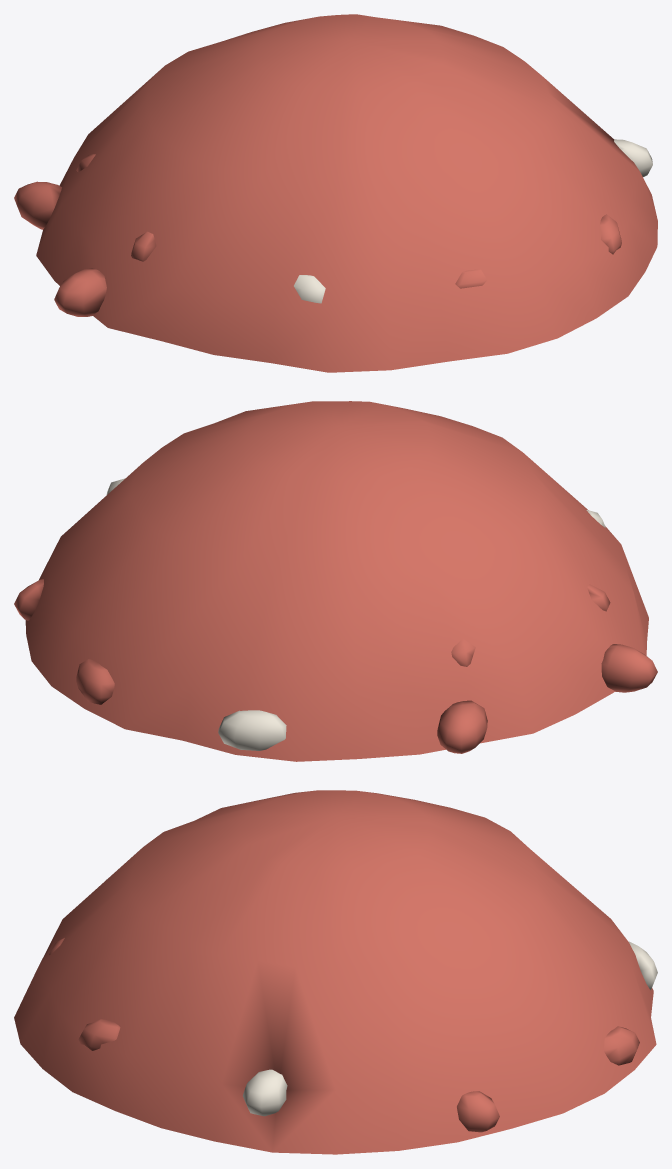
Rendered from prep_mound.glb.
3 renders of one model, top to bottom at view 1: azimuth 30°, elevation 25°; view 2: azimuth 150°, elevation 25°; view 3: azimuth 270°, elevation 25°, orthographic. The views are drawn at different scales.
Parts seen in each view (by area): view 1: PART; view 2: PART; view 3: PART.
Part boxes in pixels (x1,y1,x2,y2): PART: [14, 14, 657, 372]; PART: [14, 401, 657, 761]; PART: [14, 790, 657, 1154].
Bounding box in the file's own units: 0.0855 × 0.0285 × 0.0809.
